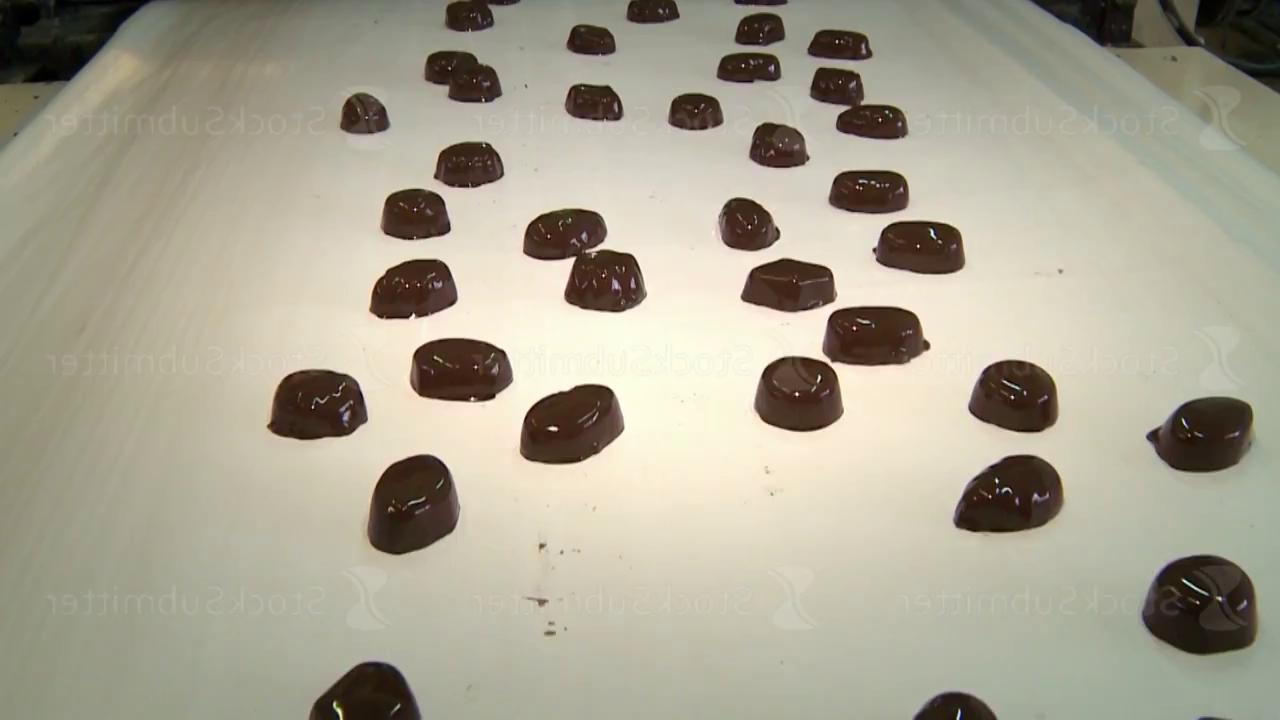chocolate: (1142, 553, 1258, 655), (367, 453, 461, 554), (954, 453, 1064, 532), (520, 383, 625, 464), (1146, 395, 1255, 472), (268, 368, 368, 439), (754, 355, 844, 431), (410, 337, 513, 402), (969, 359, 1059, 432), (309, 661, 422, 719), (823, 305, 930, 365), (370, 258, 458, 319), (565, 249, 647, 312), (741, 258, 836, 312), (875, 220, 965, 274), (523, 208, 607, 260), (381, 188, 451, 239), (830, 169, 909, 213), (719, 197, 780, 250), (435, 141, 504, 187), (750, 122, 809, 168), (837, 103, 908, 139), (913, 690, 998, 719), (565, 83, 623, 121), (340, 92, 389, 134), (811, 66, 864, 104), (669, 93, 723, 130), (808, 29, 873, 59), (717, 52, 781, 82), (736, 12, 785, 45), (567, 23, 616, 55), (446, 1, 495, 31), (627, 0, 680, 23)
